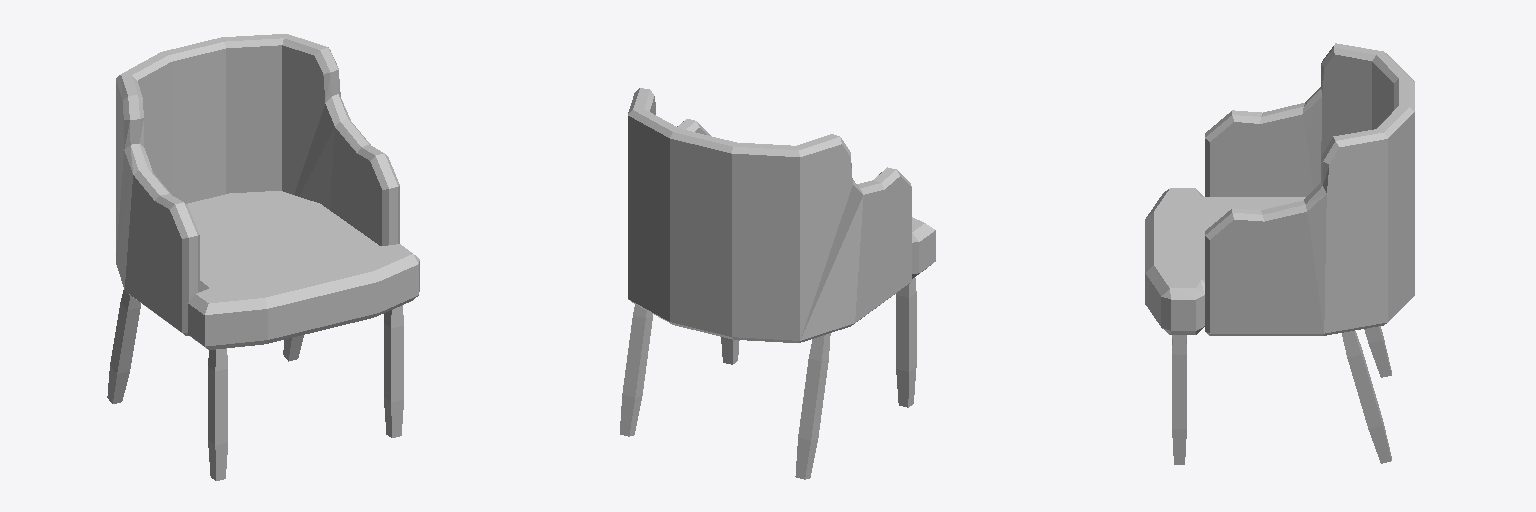
The model's file is lounge_chair_001.obj.
The picture shows the model from 3 angles: view 1: azimuth 30°, elevation 25°; view 2: azimuth 150°, elevation 25°; view 3: azimuth 270°, elevation 25°; orthographic projection.
Parts seen in each view (by area): view 1: lounge_chair_001; view 2: lounge_chair_001; view 3: lounge_chair_001.
Boxes of the visible parts, x1=… form: lounge_chair_001: x1=107, y1=34, x2=419, y2=480; lounge_chair_001: x1=620, y1=88, x2=935, y2=479; lounge_chair_001: x1=1145, y1=43, x2=1414, y2=464.
Bounding box in the file's own units: 0.6577 × 0.94 × 0.6995.